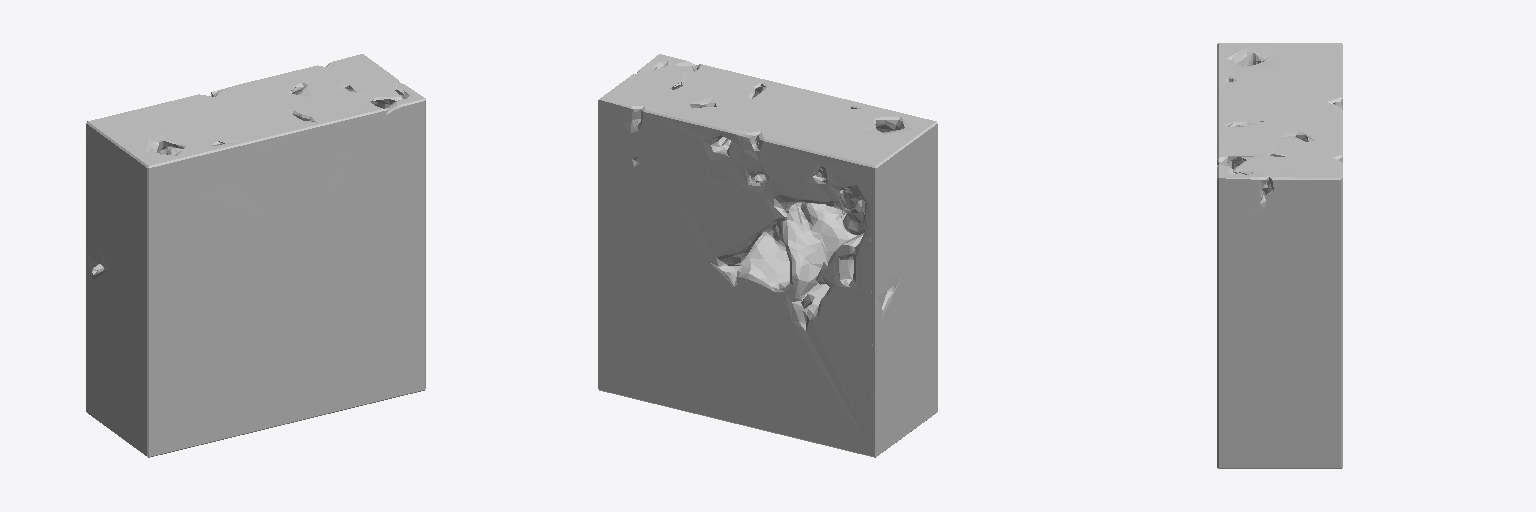
The picture shows the model from 3 angles: view 1: azimuth 30°, elevation 25°; view 2: azimuth 150°, elevation 25°; view 3: azimuth 270°, elevation 25°; orthographic projection.
Parts seen in each view (by area): view 1: Liquid_Domain; view 2: Liquid_Domain; view 3: Liquid_Domain.
Boxes of the visible parts, <box> form: Liquid_Domain: <box>86,54,425,457</box>; Liquid_Domain: <box>598,54,937,457</box>; Liquid_Domain: <box>1217,43,1342,468</box>.
Bounding box in the file's own units: 884 × 884 × 344.